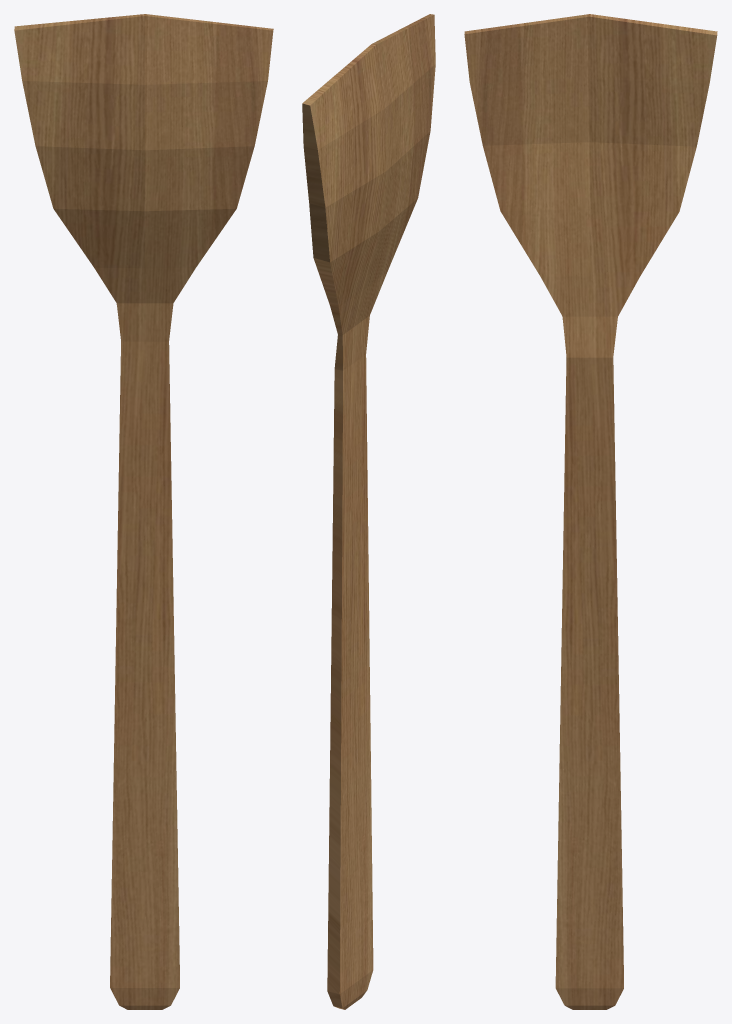
Rendered from Spatula.fbx.
3 renders of one model, left to right at view 1: azimuth 90°, elevation 25°; view 2: azimuth 150°, elevation 25°; view 3: azimuth 270°, elevation 25°, orthographic. The views are drawn at different scales.
Visible parts, largest first — view 1: spatula.002; view 2: spatula.002; view 3: spatula.002.
Boxes of the visible parts, x1,y1,x2,y2 form: spatula.002: (14, 14, 273, 1009); spatula.002: (302, 14, 435, 1009); spatula.002: (464, 14, 717, 1009).
Size of the model in its own units: 51.39 by 1125 by 263.
